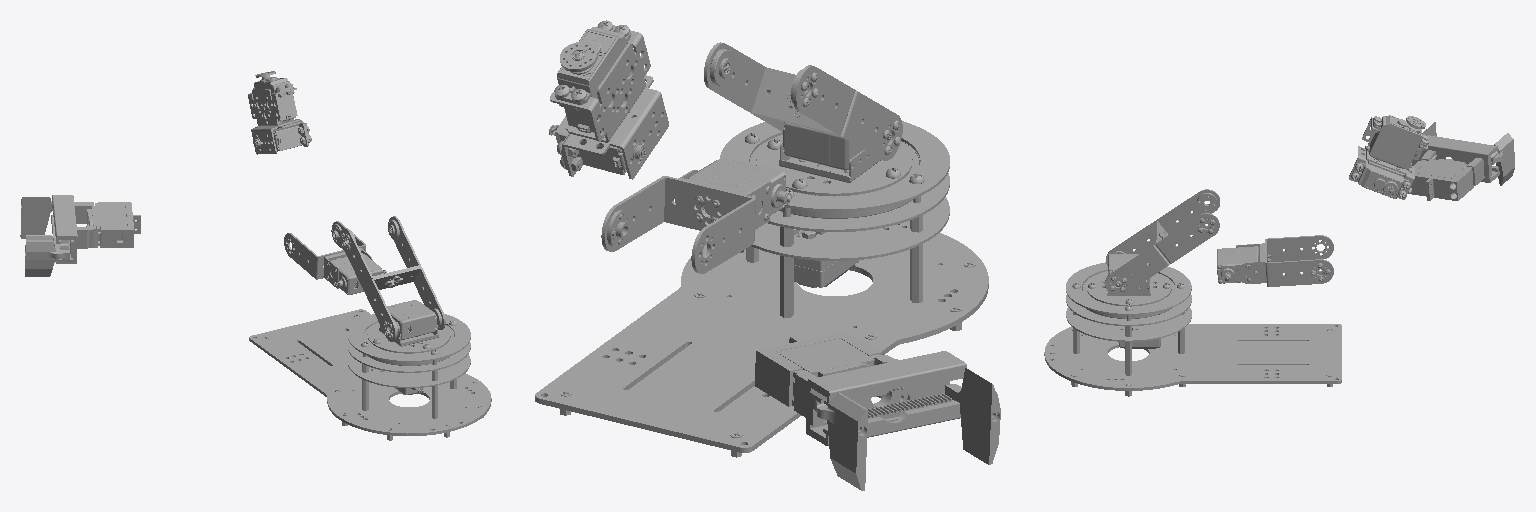
URDF robot description (Hiwonder):
<?xml version="1.0" ?>
<!-- =================================================================================== -->
<!-- |    This document was autogenerated by xacro from urdf/Hiwonder.xacro            | -->
<!-- |    EDITING THIS FILE BY HAND IS NOT RECOMMENDED                                 | -->
<!-- =================================================================================== -->
<robot xmlns:xacro="http://www.ros.org/wiki/xacro" name="Hiwonder">
  <material name="silver">
    <color rgba="0.700 0.700 0.700 1.000"/>
  </material>
  <transmission name="Revolute 13_tran">
    <type>transmission_interface/SimpleTransmission</type>
    <joint name="Revolute 13">
      <hardwareInterface>hardware_interface/EffortJointInterface</hardwareInterface>
    </joint>
    <actuator name="Revolute 13_actr">
      <hardwareInterface>hardware_interface/EffortJointInterface</hardwareInterface>
      <mechanicalReduction>1</mechanicalReduction>
    </actuator>
  </transmission>
  <transmission name="Revolute 14_tran">
    <type>transmission_interface/SimpleTransmission</type>
    <joint name="Revolute 14">
      <hardwareInterface>hardware_interface/EffortJointInterface</hardwareInterface>
    </joint>
    <actuator name="Revolute 14_actr">
      <hardwareInterface>hardware_interface/EffortJointInterface</hardwareInterface>
      <mechanicalReduction>1</mechanicalReduction>
    </actuator>
  </transmission>
  <transmission name="Revolute 15_tran">
    <type>transmission_interface/SimpleTransmission</type>
    <joint name="Revolute 15">
      <hardwareInterface>hardware_interface/EffortJointInterface</hardwareInterface>
    </joint>
    <actuator name="Revolute 15_actr">
      <hardwareInterface>hardware_interface/EffortJointInterface</hardwareInterface>
      <mechanicalReduction>1</mechanicalReduction>
    </actuator>
  </transmission>
  <transmission name="Revolute 16_tran">
    <type>transmission_interface/SimpleTransmission</type>
    <joint name="Revolute 16">
      <hardwareInterface>hardware_interface/EffortJointInterface</hardwareInterface>
    </joint>
    <actuator name="Revolute 16_actr">
      <hardwareInterface>hardware_interface/EffortJointInterface</hardwareInterface>
      <mechanicalReduction>1</mechanicalReduction>
    </actuator>
  </transmission>
  <transmission name="Revolute 19_tran">
    <type>transmission_interface/SimpleTransmission</type>
    <joint name="Revolute 19">
      <hardwareInterface>hardware_interface/EffortJointInterface</hardwareInterface>
    </joint>
    <actuator name="Revolute 19_actr">
      <hardwareInterface>hardware_interface/EffortJointInterface</hardwareInterface>
      <mechanicalReduction>1</mechanicalReduction>
    </actuator>
  </transmission>
  <transmission name="Slider 29_tran">
    <type>transmission_interface/SimpleTransmission</type>
    <joint name="Slider 29">
      <hardwareInterface>hardware_interface/EffortJointInterface</hardwareInterface>
    </joint>
    <actuator name="Slider 29_actr">
      <hardwareInterface>hardware_interface/EffortJointInterface</hardwareInterface>
      <mechanicalReduction>1</mechanicalReduction>
    </actuator>
  </transmission>
  <transmission name="Slider 31_tran">
    <type>transmission_interface/SimpleTransmission</type>
    <joint name="Slider 31">
      <hardwareInterface>hardware_interface/EffortJointInterface</hardwareInterface>
    </joint>
    <actuator name="Slider 31_actr">
      <hardwareInterface>hardware_interface/EffortJointInterface</hardwareInterface>
      <mechanicalReduction>1</mechanicalReduction>
    </actuator>
  </transmission>
  <gazebo>
    <plugin name="control" filename="libgazebo_ros_control.so"/>
  </gazebo>
  <gazebo reference="base_link">
    <material>Gazebo/Silver</material>
    <mu1>0.2</mu1>
    <mu2>0.2</mu2>
    <selfCollide>true</selfCollide>
    <gravity>true</gravity>
  </gazebo>
  <gazebo reference="second_link_1">
    <material>Gazebo/Silver</material>
    <mu1>0.2</mu1>
    <mu2>0.2</mu2>
    <selfCollide>true</selfCollide>
  </gazebo>
  <gazebo reference="third_link_1">
    <material>Gazebo/Silver</material>
    <mu1>0.2</mu1>
    <mu2>0.2</mu2>
    <selfCollide>true</selfCollide>
  </gazebo>
  <gazebo reference="fourth_link_1">
    <material>Gazebo/Silver</material>
    <mu1>0.2</mu1>
    <mu2>0.2</mu2>
    <selfCollide>true</selfCollide>
  </gazebo>
  <gazebo reference="fifth_link_1">
    <material>Gazebo/Silver</material>
    <mu1>0.2</mu1>
    <mu2>0.2</mu2>
    <selfCollide>true</selfCollide>
  </gazebo>
  <gazebo reference="sixth_link_1">
    <material>Gazebo/Silver</material>
    <mu1>0.2</mu1>
    <mu2>0.2</mu2>
    <selfCollide>true</selfCollide>
  </gazebo>
  <gazebo reference="right_finger_1">
    <material>Gazebo/Silver</material>
    <mu1>0.2</mu1>
    <mu2>0.2</mu2>
    <selfCollide>true</selfCollide>
  </gazebo>
  <gazebo reference="left_finger_1">
    <material>Gazebo/Silver</material>
    <mu1>0.2</mu1>
    <mu2>0.2</mu2>
    <selfCollide>true</selfCollide>
  </gazebo>
  <link name="base_link">
    <inertial>
      <origin xyz="1.0914827906389602e-06 0.09260862084125268 0.03056402721165038" rpy="0 0 0"/>
      <mass value="1.5251096871562557"/>
      <inertia ixx="0.008261" iyy="0.002907" izz="0.009107" ixy="0.0" iyz="0.001105" ixz="-0.0"/>
    </inertial>
    <visual>
      <origin xyz="0 0 0" rpy="0 0 0"/>
      <geometry>
        <mesh filename="package://Hiwonder_description/meshes/base_link.stl" scale="0.001 0.001 0.001"/>
      </geometry>
      <material name="silver"/>
    </visual>
    <collision>
      <origin xyz="0 0 0" rpy="0 0 0"/>
      <geometry>
        <mesh filename="package://Hiwonder_description/meshes/base_link.stl" scale="0.001 0.001 0.001"/>
      </geometry>
    </collision>
  </link>
  <link name="second_link_1">
    <inertial>
      <origin xyz="0.0015155642244600231 1.7928644227699353e-06 0.024809430057861744" rpy="0 0 0"/>
      <mass value="0.37909012139587217"/>
      <inertia ixx="0.000161" iyy="0.00016" izz="0.000201" ixy="0.0" iyz="0.0" ixz="-6e-06"/>
    </inertial>
    <visual>
      <origin xyz="0.0 -0.056304 -0.060801" rpy="0 0 0"/>
      <geometry>
        <mesh filename="package://Hiwonder_description/meshes/second_link_1.stl" scale="0.001 0.001 0.001"/>
      </geometry>
      <material name="silver"/>
    </visual>
    <collision>
      <origin xyz="0.0 -0.056304 -0.060801" rpy="0 0 0"/>
      <geometry>
        <mesh filename="package://Hiwonder_description/meshes/second_link_1.stl" scale="0.001 0.001 0.001"/>
      </geometry>
    </collision>
  </link>
  <link name="third_link_1">
    <inertial>
      <origin xyz="-0.027698296621942956 0.04765413999012262 0.020748432672287473" rpy="0 0 0"/>
      <mass value="0.16226233466168985"/>
      <inertia ixx="0.000203" iyy="0.000132" izz="0.00026" ixy="-0.0" iyz="-6.9e-05" ixz="-0.0"/>
    </inertial>
    <visual>
      <origin xyz="-0.028042 -0.046304 -0.095801" rpy="0 0 0"/>
      <geometry>
        <mesh filename="package://Hiwonder_description/meshes/third_link_1.stl" scale="0.001 0.001 0.001"/>
      </geometry>
      <material name="silver"/>
    </visual>
    <collision>
      <origin xyz="-0.028042 -0.046304 -0.095801" rpy="0 0 0"/>
      <geometry>
        <mesh filename="package://Hiwonder_description/meshes/third_link_1.stl" scale="0.001 0.001 0.001"/>
      </geometry>
    </collision>
  </link>
  <link name="fourth_link_1">
    <inertial>
      <origin xyz="-0.02572686990818987 0.004053928250455058 0.023157892432834615" rpy="0 0 0"/>
      <mass value="0.2923899366437736"/>
      <inertia ixx="0.000208" iyy="0.00026" izz="8.7e-05" ixy="-0.0" iyz="-3.2e-05" ixz="-2e-06"/>
    </inertial>
    <visual>
      <origin xyz="-0.028042 -0.141658 -0.137318" rpy="0 0 0"/>
      <geometry>
        <mesh filename="package://Hiwonder_description/meshes/fourth_link_1.stl" scale="0.001 0.001 0.001"/>
      </geometry>
      <material name="silver"/>
    </visual>
    <collision>
      <origin xyz="-0.028042 -0.141658 -0.137318" rpy="0 0 0"/>
      <geometry>
        <mesh filename="package://Hiwonder_description/meshes/fourth_link_1.stl" scale="0.001 0.001 0.001"/>
      </geometry>
    </collision>
  </link>
  <link name="fifth_link_1">
    <inertial>
      <origin xyz="0.02482151135065362 -0.01754474473381723 0.013754851957438224" rpy="0 0 0"/>
      <mass value="0.29380221652800204"/>
      <inertia ixx="0.000201" iyy="0.000157" izz="0.000113" ixy="-4e-06" iyz="2.4e-05" ixz="5e-06"/>
    </inertial>
    <visual>
      <origin xyz="0.0285 -0.157021 -0.224566" rpy="0 0 0"/>
      <geometry>
        <mesh filename="package://Hiwonder_description/meshes/fifth_link_1.stl" scale="0.001 0.001 0.001"/>
      </geometry>
      <material name="silver"/>
    </visual>
    <collision>
      <origin xyz="0.0285 -0.157021 -0.224566" rpy="0 0 0"/>
      <geometry>
        <mesh filename="package://Hiwonder_description/meshes/fifth_link_1.stl" scale="0.001 0.001 0.001"/>
      </geometry>
    </collision>
  </link>
  <link name="sixth_link_1">
    <inertial>
      <origin xyz="-5.564917727016649e-05 -0.024329962527568846 0.039653341169548384" rpy="0 0 0"/>
      <mass value="0.5747761409814244"/>
      <inertia ixx="0.000539" iyy="0.000285" izz="0.000328" ixy="-9e-06" iyz="5.9e-05" ixz="-2e-06"/>
    </inertial>
    <visual>
      <origin xyz="0.003224 -0.127901 -0.28191" rpy="0 0 0"/>
      <geometry>
        <mesh filename="package://Hiwonder_description/meshes/sixth_link_1.stl" scale="0.001 0.001 0.001"/>
      </geometry>
      <material name="silver"/>
    </visual>
    <collision>
      <origin xyz="0.003224 -0.127901 -0.28191" rpy="0 0 0"/>
      <geometry>
        <mesh filename="package://Hiwonder_description/meshes/sixth_link_1.stl" scale="0.001 0.001 0.001"/>
      </geometry>
    </collision>
  </link>
  <link name="right_finger_1">
    <inertial>
      <origin xyz="0.3334698569050242 -0.00907267411723324 -0.01453310351807563" rpy="0 0 0"/>
      <mass value="0.07962832262347441"/>
      <inertia ixx="4.1e-05" iyy="3.8e-05" izz="2.4e-05" ixy="3e-06" iyz="-1.2e-05" ixz="1e-05"/>
    </inertial>
    <visual>
      <origin xyz="0.336601 -0.108453 -0.384364" rpy="0 0 0"/>
      <geometry>
        <mesh filename="package://Hiwonder_description/meshes/right_finger_1.stl" scale="0.001 0.001 0.001"/>
      </geometry>
      <material name="silver"/>
    </visual>
    <collision>
      <origin xyz="0.336601 -0.108453 -0.384364" rpy="0 0 0"/>
      <geometry>
        <mesh filename="package://Hiwonder_description/meshes/right_finger_1.stl" scale="0.001 0.001 0.001"/>
      </geometry>
    </collision>
  </link>
  <link name="left_finger_1">
    <inertial>
      <origin xyz="0.0021544872810023447 -0.02302381129656561 0.005335867881885781" rpy="0 0 0"/>
      <mass value="0.07506411850762539"/>
      <inertia ixx="3.9e-05" iyy="1.2e-05" izz="3.7e-05" ixy="-1e-06" iyz="3e-06" ixz="0.0"/>
    </inertial>
    <visual>
      <origin xyz="0.014763 -0.085594 -0.345323" rpy="0 0 0"/>
      <geometry>
        <mesh filename="package://Hiwonder_description/meshes/left_finger_1.stl" scale="0.001 0.001 0.001"/>
      </geometry>
      <material name="silver"/>
    </visual>
    <collision>
      <origin xyz="0.014763 -0.085594 -0.345323" rpy="0 0 0"/>
      <geometry>
        <mesh filename="package://Hiwonder_description/meshes/left_finger_1.stl" scale="0.001 0.001 0.001"/>
      </geometry>
    </collision>
  </link>
  <joint name="Revolute 13" type="revolute">
    <origin xyz="0.0 0.056304 0.060801" rpy="0 0 0"/>
    <parent link="base_link"/>
    <child link="second_link_1"/>
    <axis xyz="0.0 0.0 -1.0"/>
    <limit upper="1.570796" lower="-1.570796" effort="100" velocity="100"/>
  </joint>
  <joint name="Revolute 14" type="revolute">
    <origin xyz="0.028042 -0.01 0.035" rpy="-0.349066 0 0"/>
    <parent link="second_link_1"/>
    <child link="third_link_1"/>
    <axis xyz="1.0 0.0 0.0"/>
    <limit upper="2.879793" lower="0.0" effort="100" velocity="100"/>
  </joint>
  <joint name="Revolute 15" type="revolute">
    <origin xyz="0.0 0.095354 0.041517" rpy="-0.977384 0 0"/>
    <parent link="third_link_1"/>
    <child link="fourth_link_1"/>
    <axis xyz="1.0 0.0 0.0"/>
    <limit upper="1.570796" lower="0.0" effort="100" velocity="100"/>
  </joint>
  <joint name="Revolute 16" type="revolute">
    <origin xyz="-0.056542 0.015363 0.087248" rpy="-0.628319 0 0"/>
    <parent link="fourth_link_1"/>
    <child link="fifth_link_1"/>
    <axis xyz="1.0 0.0 0.0"/>
    <limit upper="1.570796" lower="0.0" effort="100" velocity="100"/>
  </joint>
  <joint name="Revolute 19" type="revolute">
    <origin xyz="0.025276 -0.02912 0.057344" rpy="-0.463617 0.455242 -1.570777"/>
    <parent link="fifth_link_1"/>
    <child link="sixth_link_1"/>
    <axis xyz="0.004192 -0.443437 0.896296"/>
    <limit upper="3.141593" lower="0.0" effort="100" velocity="100"/>
  </joint>
  <joint name="Slider 29" type="prismatic">
    <origin xyz="-0.333377 -0.019448 0.102454" rpy="0 0 0"/>
    <parent link="sixth_link_1"/>
    <child link="right_finger_1"/>
    <axis xyz="0.045686 0.895452 0.442806"/>
    <limit upper="0.01" lower="-0.05" effort="100" velocity="100"/>
  </joint>
  <joint name="Slider 31" type="prismatic">
    <origin xyz="-0.011539 -0.042307 0.063413" rpy="0 0 0"/>
    <parent link="sixth_link_1"/>
    <child link="left_finger_1"/>
    <axis xyz="0.045686 0.895452 0.442806"/>
    <limit upper="0.05" lower="-0.01" effort="100" velocity="100"/>
    <mimic joint="Slider 29" multiplier="-1.0" offset="0.0" />
  </joint>
</robot>

--- What the picture shows (computed from the rendered views, not written in the file) ---
3 views of the same robot in one strip: view 1: azimuth 30°, elevation 25°; view 2: azimuth 150°, elevation 25°; view 3: azimuth 270°, elevation 25° (orthographic).
Model Hiwonder with 8 links and 7 joints (5 revolute, 2 prismatic), rooted at base_link, posed all joints at 0.
Links seen in each view (by area): view 1: base_link, sixth_link_1, third_link_1, fifth_link_1, second_link_1, fourth_link_1, left_finger_1, right_finger_1; view 2: base_link, fifth_link_1, sixth_link_1, fourth_link_1, third_link_1, second_link_1, left_finger_1, right_finger_1; view 3: base_link, third_link_1, fourth_link_1, fifth_link_1, sixth_link_1, second_link_1, right_finger_1.
Boxes of the visible links, bbox=[...] form: base_link: bbox=[249, 309, 491, 440]; sixth_link_1: bbox=[51, 195, 140, 263]; third_link_1: bbox=[340, 216, 445, 341]; fifth_link_1: bbox=[248, 71, 311, 154]; second_link_1: bbox=[364, 300, 453, 353]; fourth_link_1: bbox=[284, 221, 386, 294]; left_finger_1: bbox=[25, 235, 72, 276]; right_finger_1: bbox=[20, 197, 52, 238]; base_link: bbox=[535, 121, 988, 457]; fifth_link_1: bbox=[549, 20, 668, 179]; sixth_link_1: bbox=[755, 332, 966, 445]; fourth_link_1: bbox=[601, 158, 791, 273]; third_link_1: bbox=[704, 42, 902, 160]; second_link_1: bbox=[750, 122, 918, 196]; left_finger_1: bbox=[868, 368, 1000, 464]; right_finger_1: bbox=[810, 387, 906, 490]; base_link: bbox=[1044, 262, 1341, 396]; third_link_1: bbox=[1105, 189, 1219, 295]; fourth_link_1: bbox=[1217, 235, 1333, 286]; fifth_link_1: bbox=[1349, 115, 1428, 199]; sixth_link_1: bbox=[1404, 135, 1499, 200]; second_link_1: bbox=[1083, 254, 1174, 306]; right_finger_1: bbox=[1490, 133, 1514, 185].
Size in the robot's own frame: 0.3457 by 0.4478 by 0.255 metres.
Meshes: 8 distinct files referenced, 8 mesh visuals loaded (8 binary STL).
